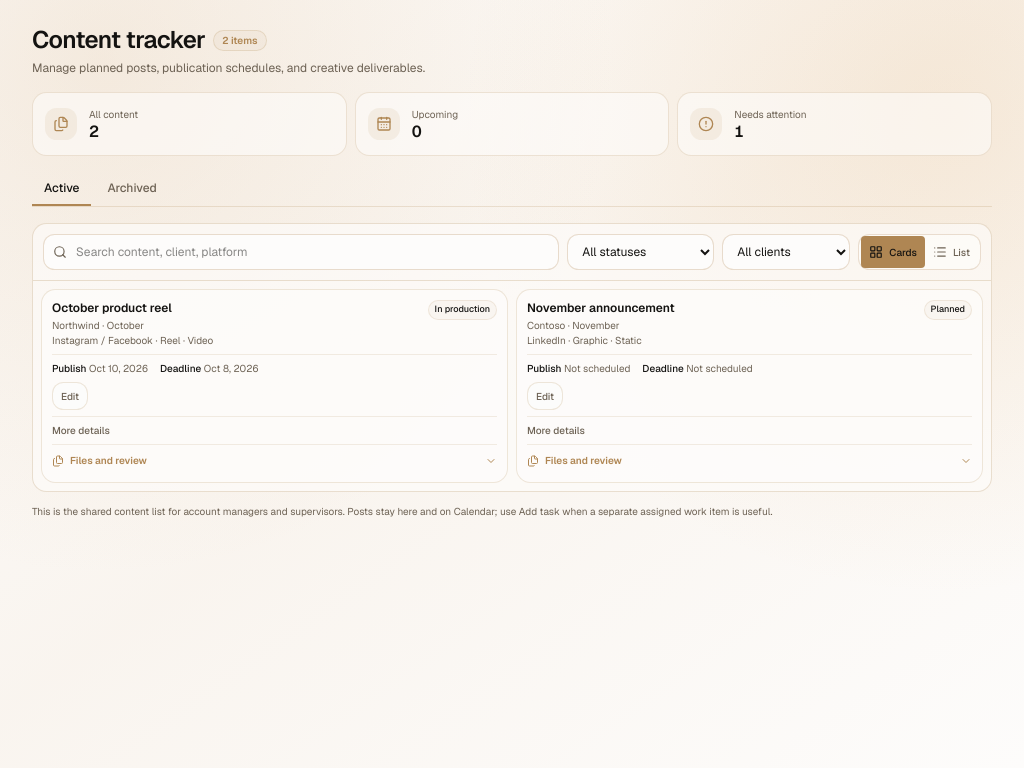
Test: unified content tracker › opens content editing in a responsive sheet instead of an in-card popover
Click the button "Edit" below "Oct 10, 2026": click(70, 396) x1=52 y1=382 x2=88 y2=410
(page scrolled)
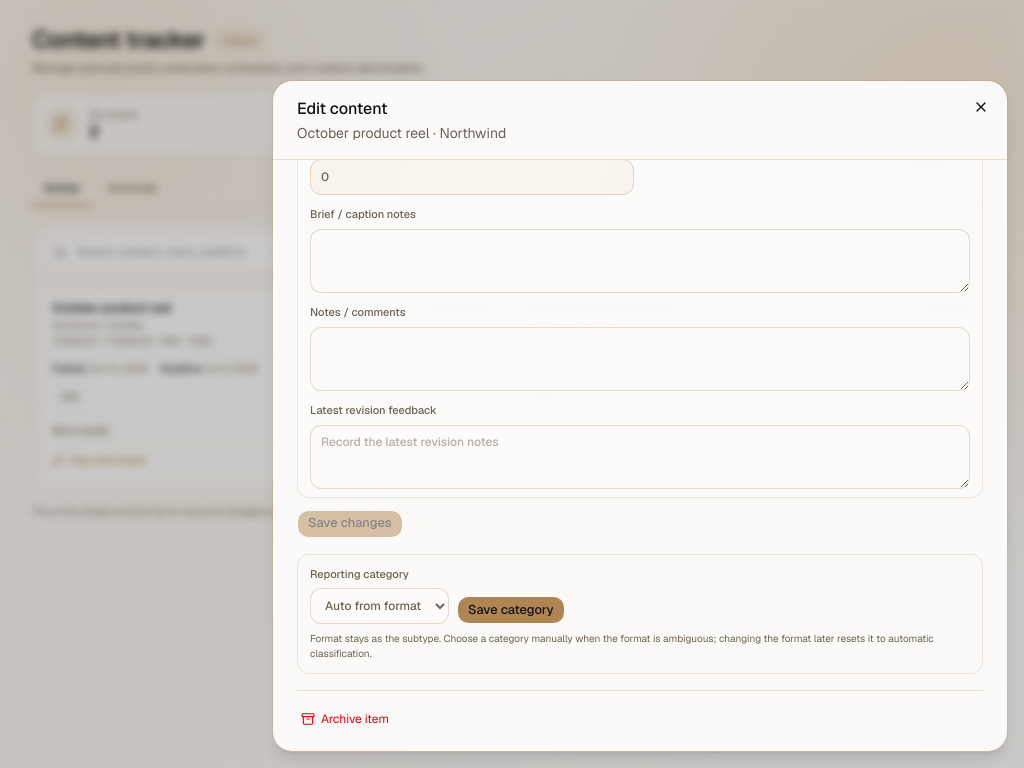
Expected: the dialog "Edit content" shows "October product reel · Northwind"
Expected: the dropdown labelled "Reporting category" shows "Auto from format", x1=310 y1=588 x2=449 y2=624
Expected: the button "Save category" is shown, x1=457 y1=596 x2=565 y2=624
